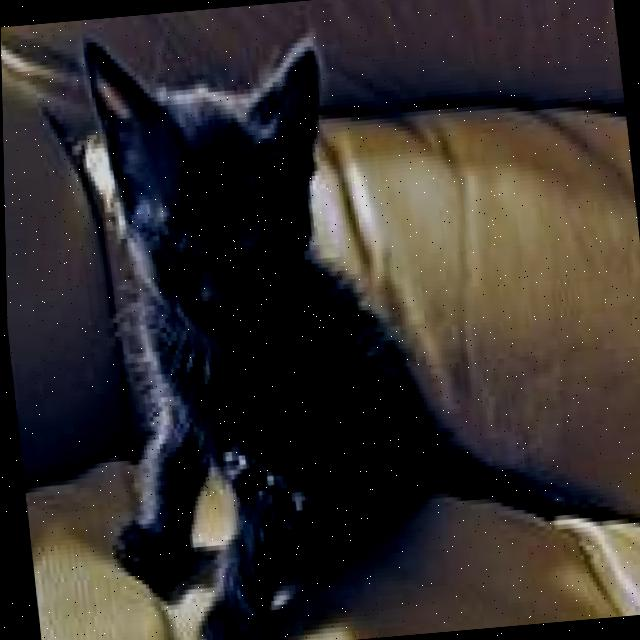Bombay: (54, 1, 461, 640)
